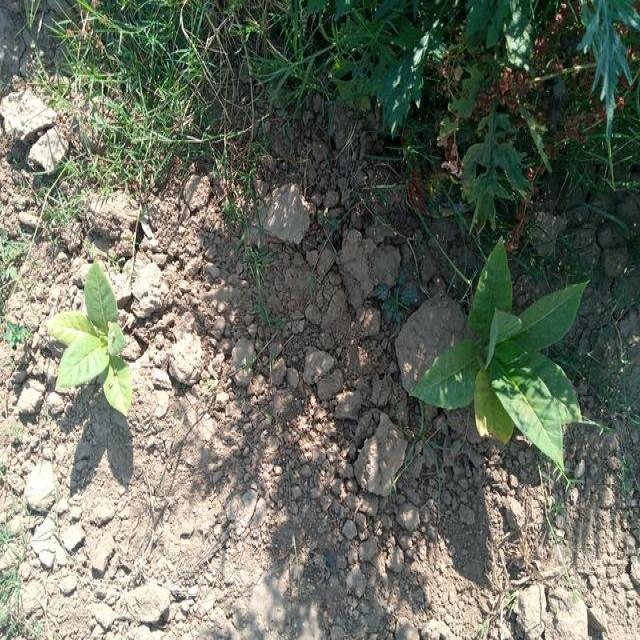crop: (415, 250, 591, 468), (52, 280, 135, 420)
